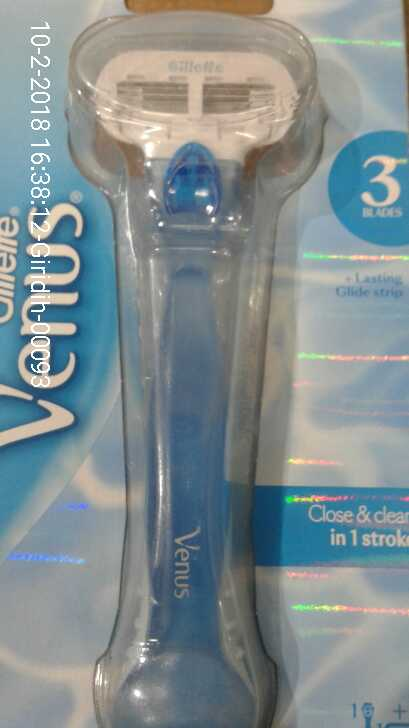venus: (60, 16, 328, 728)
